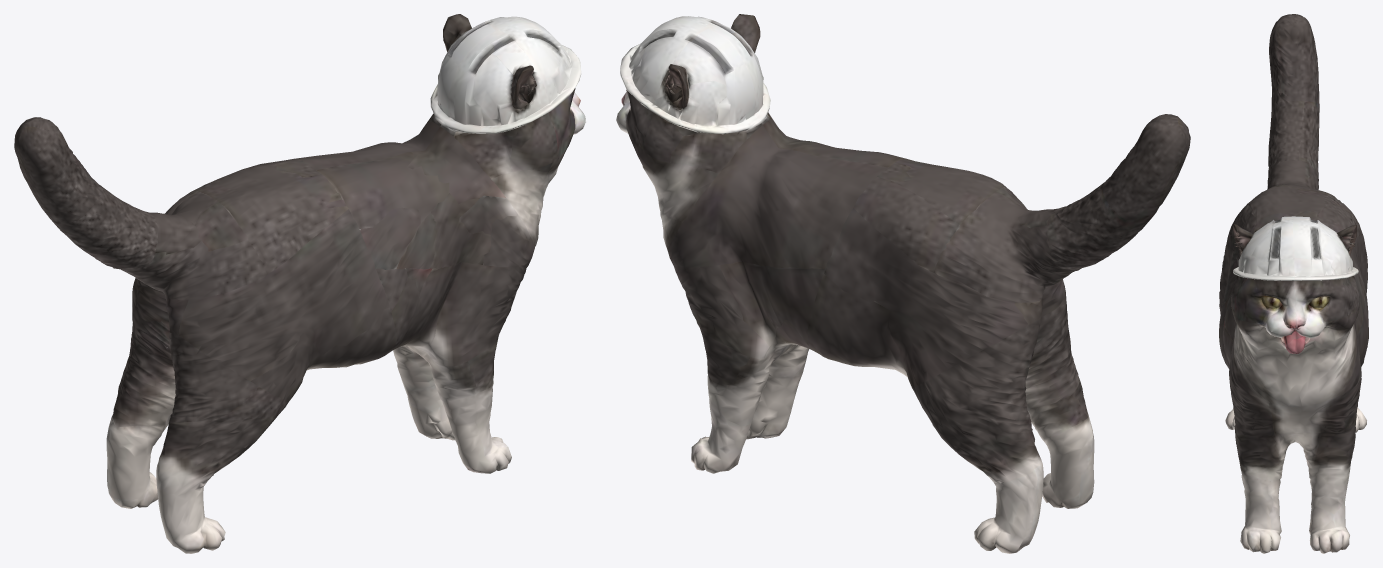
File: YOSHINEKO.glb
The picture shows the model from 3 angles, left to right: view 1: azimuth 30°, elevation 25°; view 2: azimuth 150°, elevation 25°; view 3: azimuth 270°, elevation 25°; orthographic projection. The views are drawn at different scales.
Parts seen in each view (by area): view 1: tripo_node_e050ab82-661b-4fae-a948-343df01fb6e7; view 2: tripo_node_e050ab82-661b-4fae-a948-343df01fb6e7; view 3: tripo_node_e050ab82-661b-4fae-a948-343df01fb6e7.
Boxes of the visible parts, x1=… form: tripo_node_e050ab82-661b-4fae-a948-343df01fb6e7: x1=14, y1=14, x2=586, y2=553; tripo_node_e050ab82-661b-4fae-a948-343df01fb6e7: x1=616, y1=14, x2=1190, y2=553; tripo_node_e050ab82-661b-4fae-a948-343df01fb6e7: x1=1219, y1=14, x2=1368, y2=553.
Size of the model in its own units: 1.34 by 0.9988 by 0.3772.
Materials: 1 (1 with a texture image).
